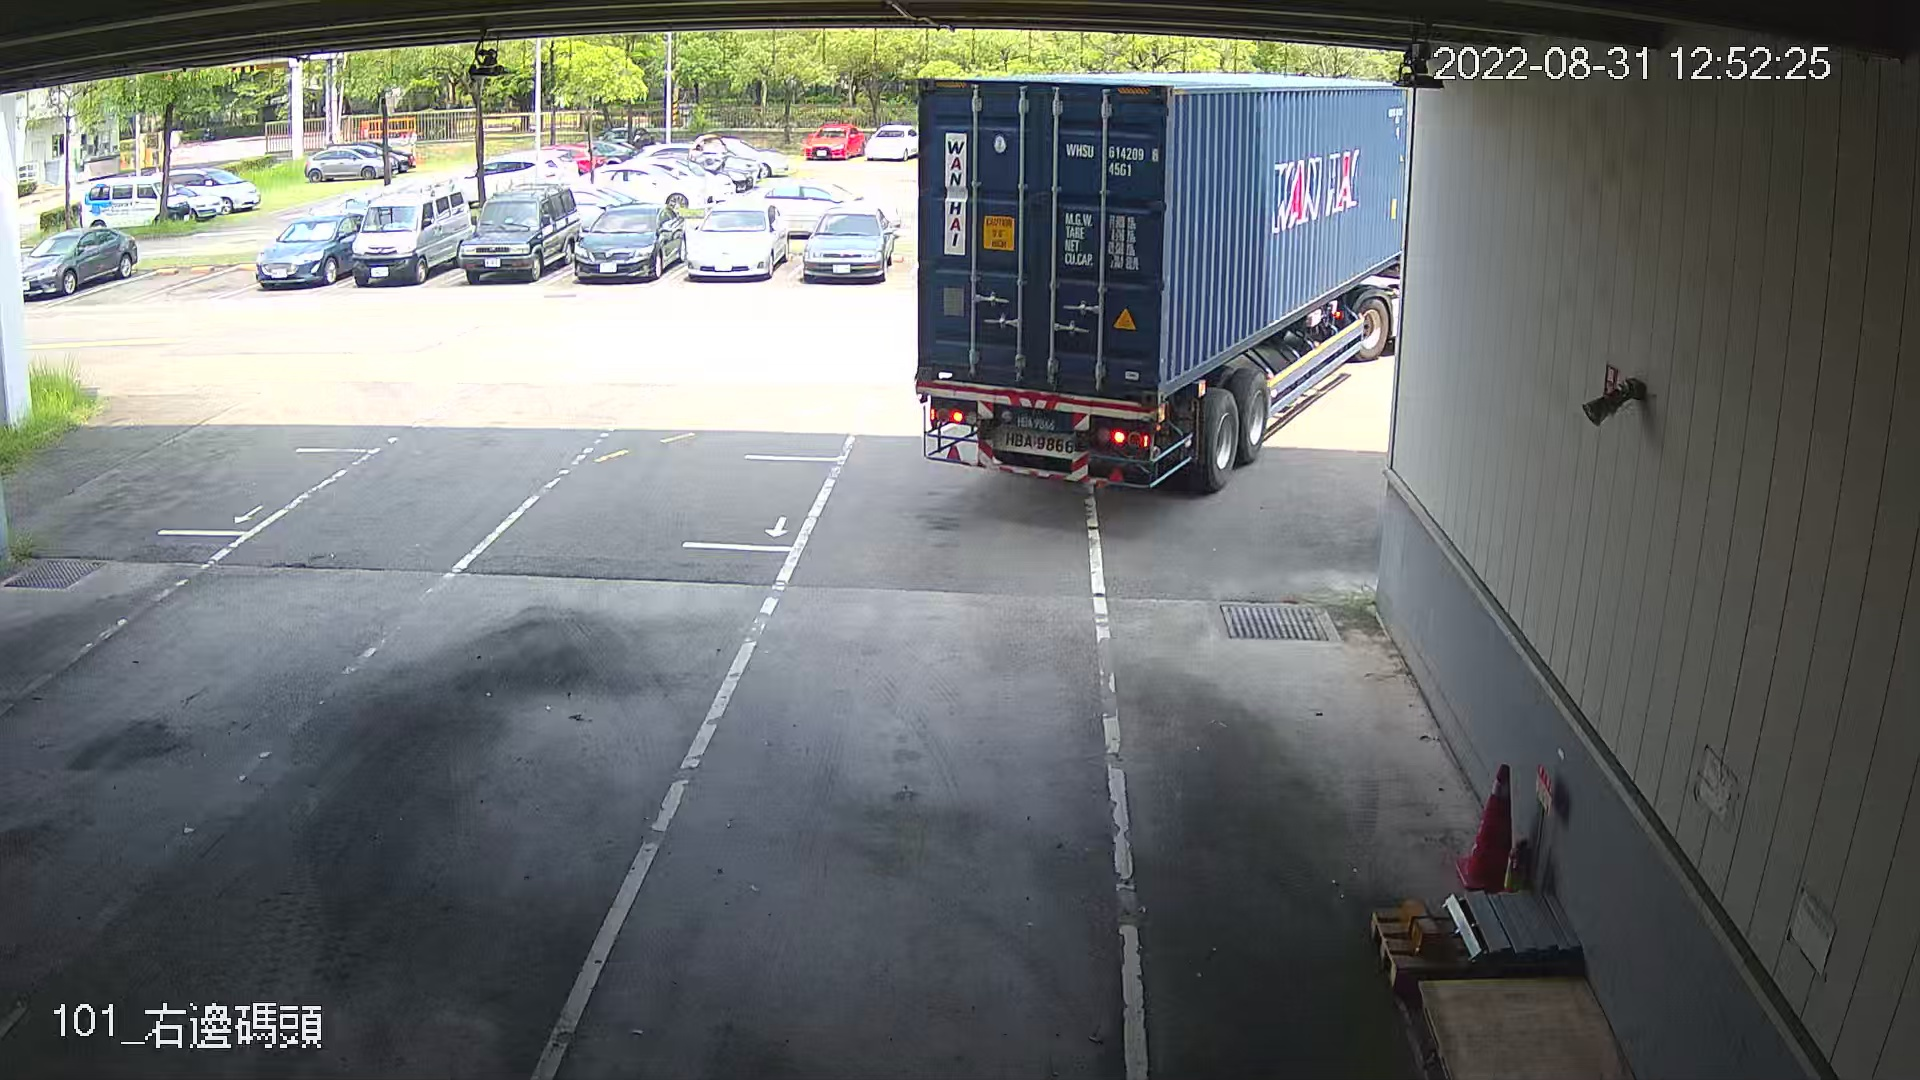container: (1062, 133, 1162, 185)
